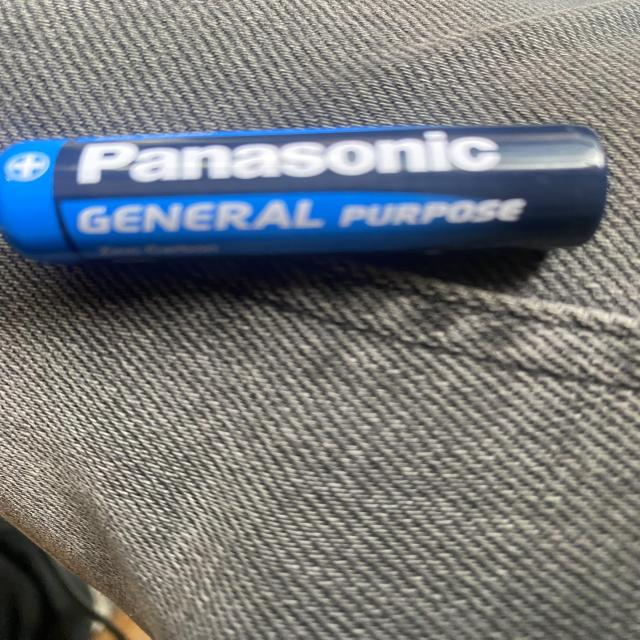AA: (1, 122, 609, 266)
